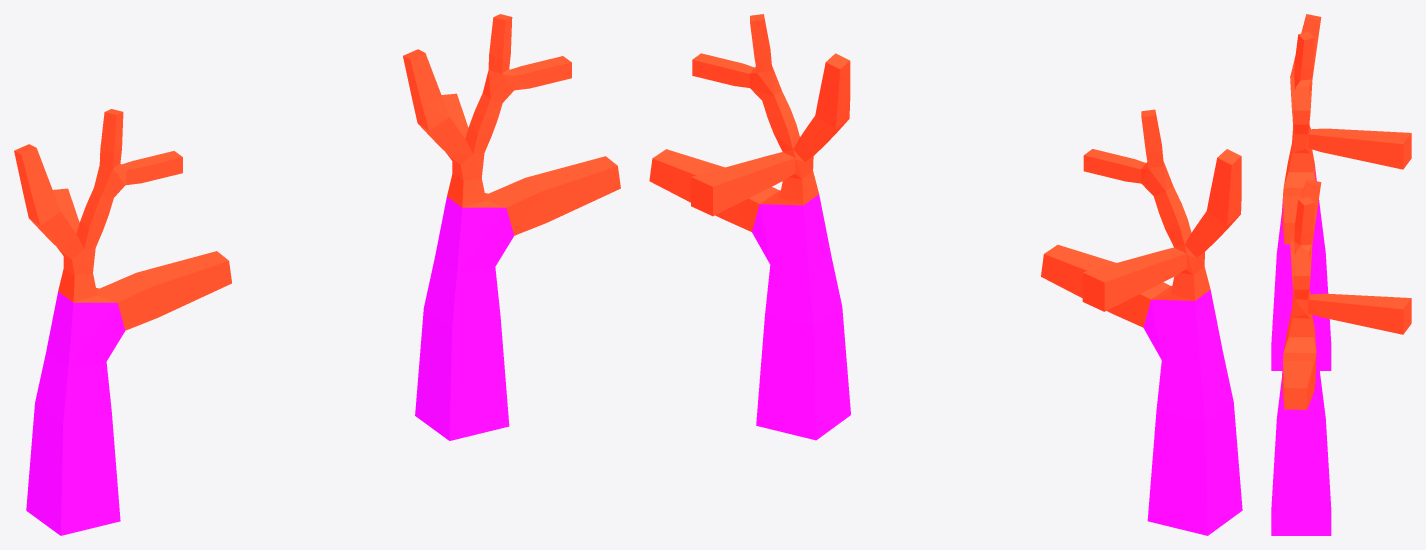
3 views of the same model, side by side, from view 1: azimuth 30°, elevation 25°; view 2: azimuth 150°, elevation 25°; view 3: azimuth 270°, elevation 25° (orthographic). The views are drawn at different scales.
Parts seen in each view (by area): view 1: Vert, Vert.001; view 2: Vert, Vert.001; view 3: Vert, Vert.001.
Part boxes in pixels (x1,y1,x2,y2): Vert: [403, 14, 620, 440]; Vert.001: [14, 109, 231, 535]; Vert: [649, 14, 850, 440]; Vert.001: [1041, 109, 1242, 535]; Vert: [1271, 179, 1411, 535]; Vert.001: [1271, 14, 1411, 370].
Bounding box in the file's own units: 69.12 × 44.07 × 16.43.
